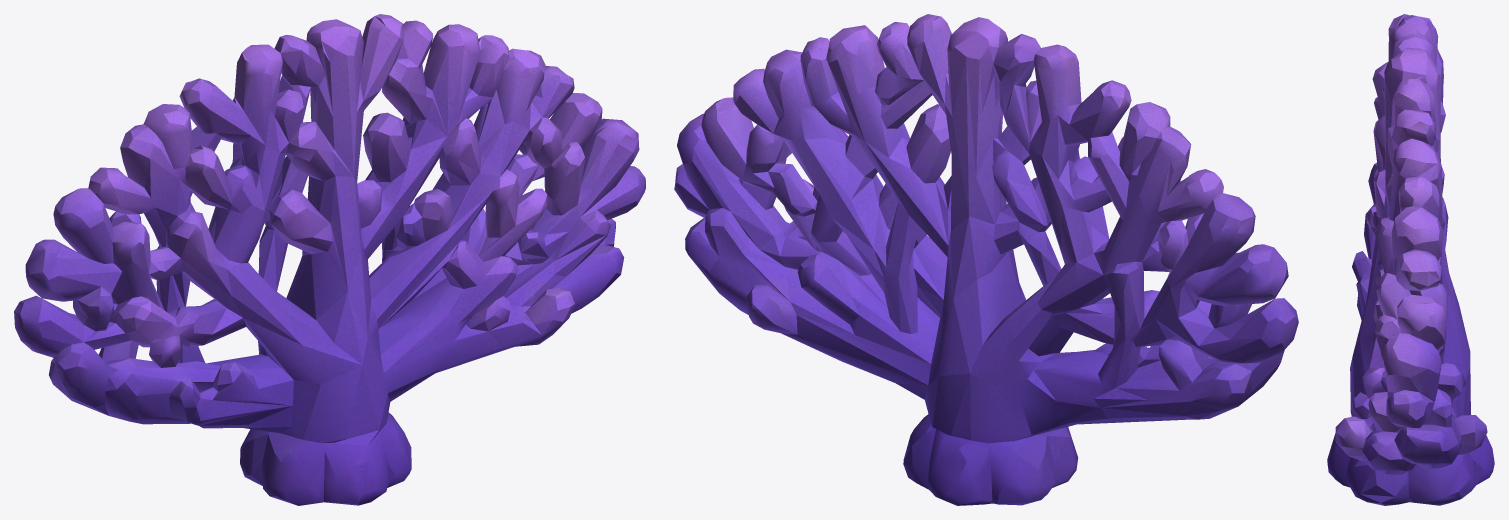
Rendered from hav-viftekoral.glb.
3 views of the same model, side by side, from view 1: azimuth 30°, elevation 25°; view 2: azimuth 150°, elevation 25°; view 3: azimuth 270°, elevation 25° (orthographic). The views are drawn at different scales.
Size of the model in its own units: 1.9 by 1.32 by 0.466.
Materials: 1 (1 with a texture image).
